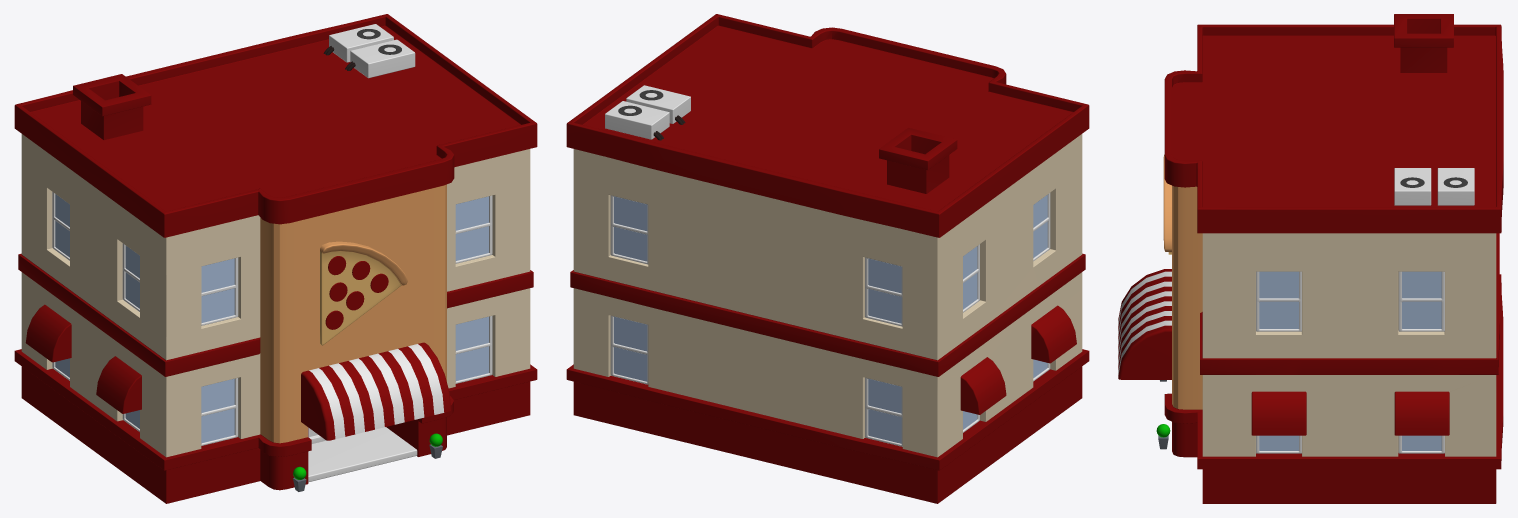
Rendered from pizzaeria.glb.
3 views of the same model, side by side, from view 1: azimuth 30°, elevation 25°; view 2: azimuth 150°, elevation 25°; view 3: azimuth 270°, elevation 25° (orthographic).
Visible parts, largest first — view 1: pizzaria; view 2: pizzaria; view 3: pizzaria.
Boxes of the visible parts, x1,y1,x2,y2 form: pizzaria: (14,14,537,503); pizzaria: (566,14,1089,503); pizzaria: (1118,14,1503,503).
Bounding box in the file's own units: 42.75 × 32.5 × 34.91.
